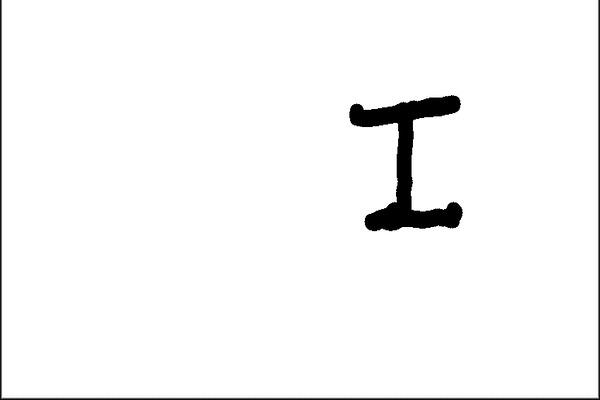i: (339, 83, 484, 250)
